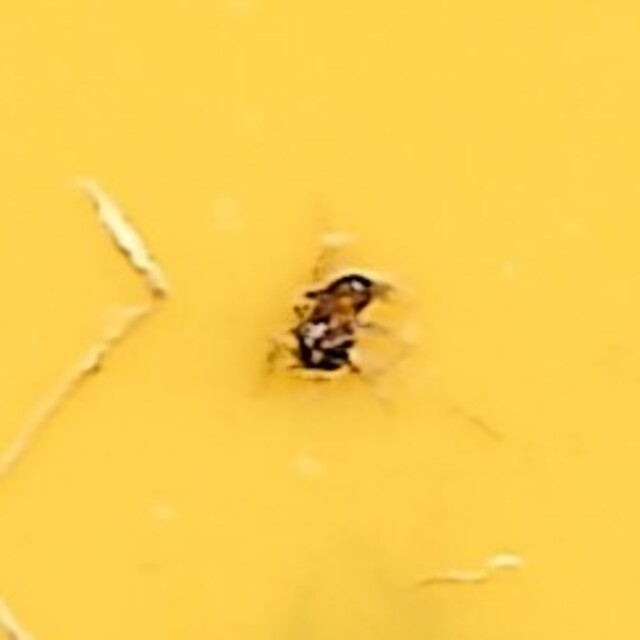Nematocera: (262, 254, 378, 386)
